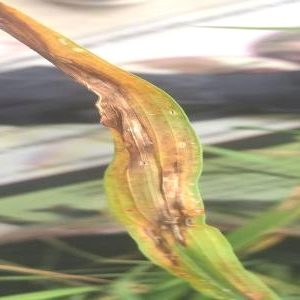Brown_Spot: (73, 74, 152, 162), (134, 213, 192, 260), (157, 194, 212, 240)
